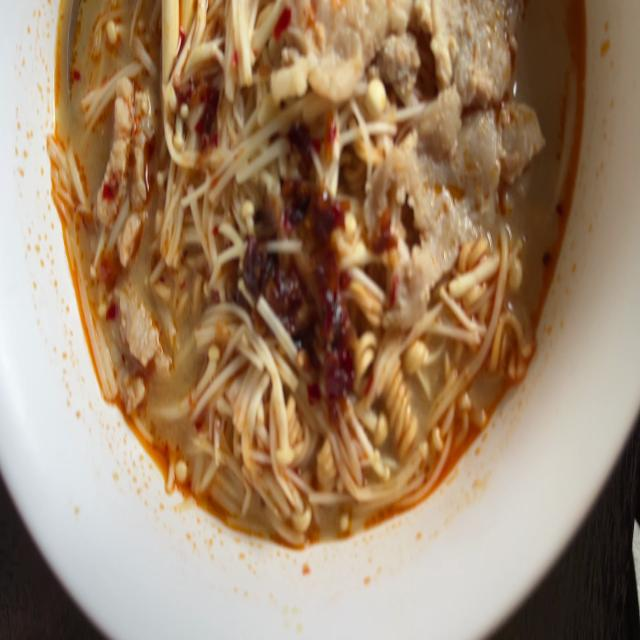noodle: (30, 0, 608, 556)
